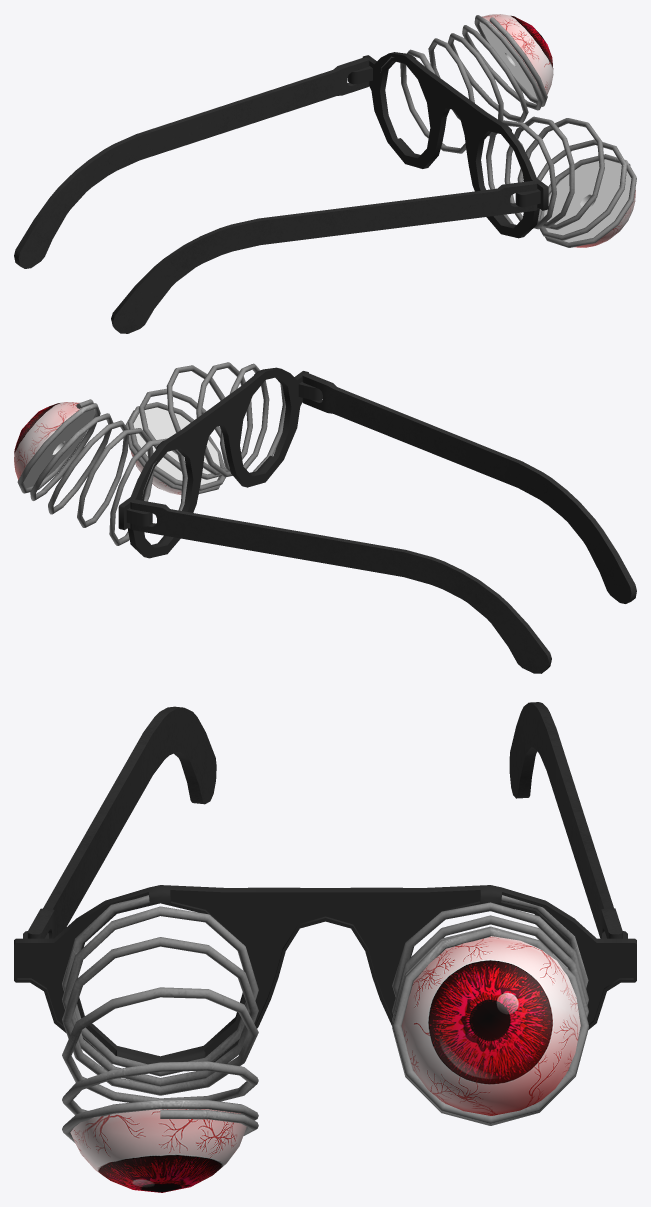
3 renders of one model, top to bottom at view 1: azimuth 30°, elevation 25°; view 2: azimuth 150°, elevation 25°; view 3: azimuth 270°, elevation 25°, orthographic. The views are drawn at different scales.
Parts seen in each view (by area): view 1: COPPY_0; view 2: COPPY_0; view 3: COPPY_0.
Part boxes in pixels (bbox=[...]): COPPY_0: bbox=[14, 14, 636, 333]; COPPY_0: bbox=[14, 362, 636, 673]; COPPY_0: bbox=[14, 702, 636, 1192].
Bounding box in the file's own units: 2.91 × 0.8123 × 1.74.
Materials: 1 (1 with a texture image).
